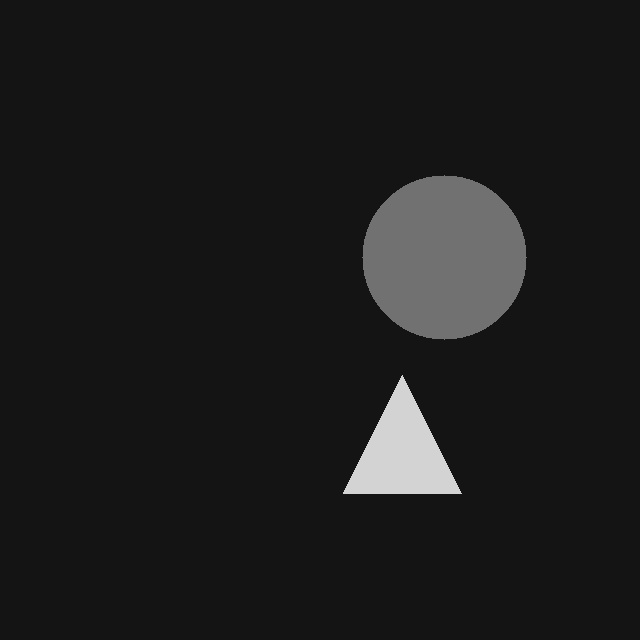circle: (362, 175, 526, 339)
triangle: (343, 375, 461, 493)
